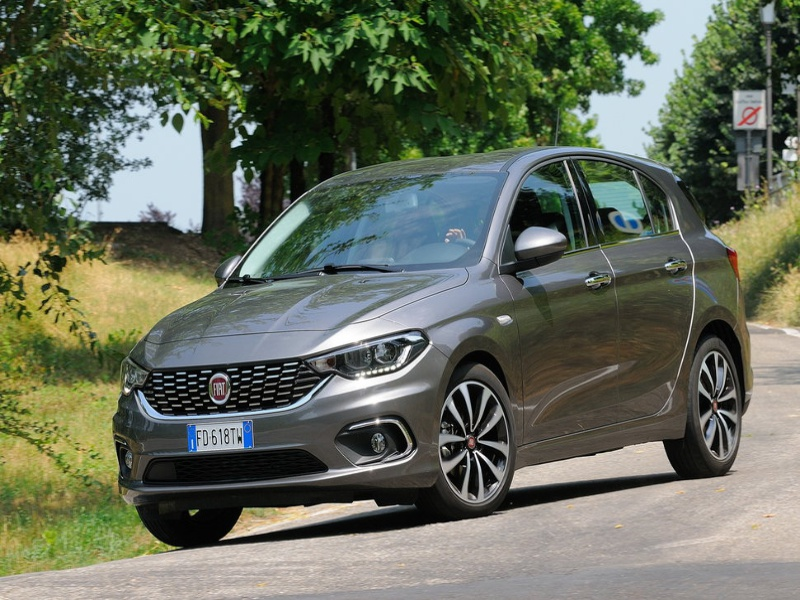licence_plate: (178, 415, 266, 458)
